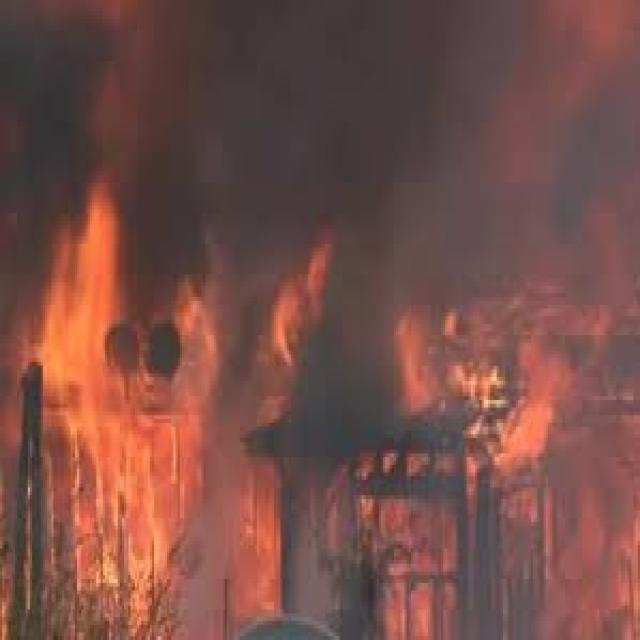Fire: (20, 176, 232, 604), (400, 273, 640, 463), (246, 212, 331, 612)
Smoke: (0, 1, 640, 252)
